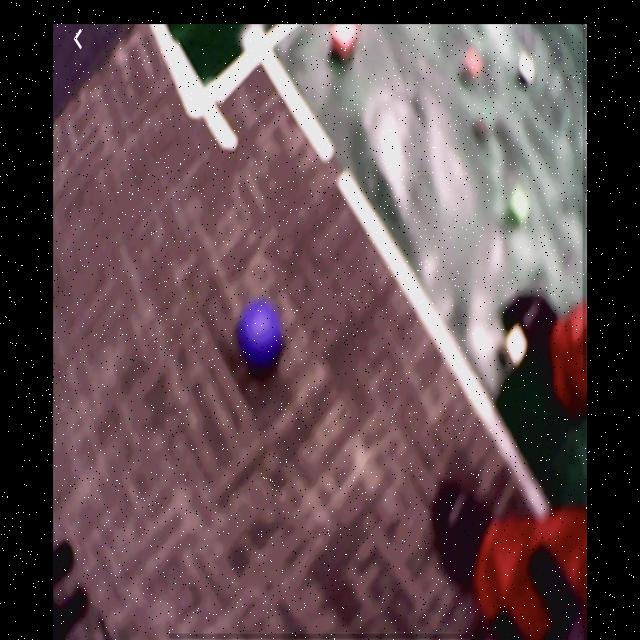ball: (237, 304, 283, 371)
